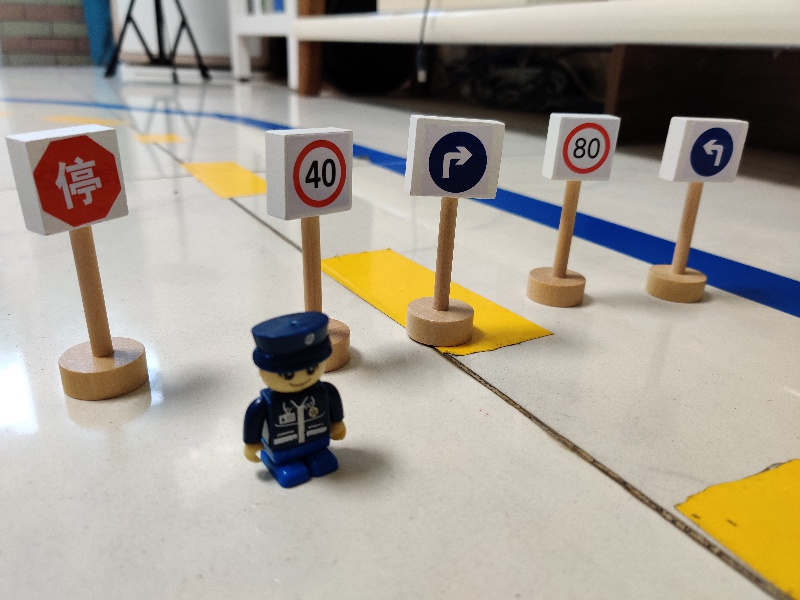limit_40: (258, 127, 358, 222)
limit_80: (539, 111, 621, 184)
person: (237, 308, 354, 493)
stop: (3, 122, 131, 235)
turn_left: (657, 115, 750, 185)
turn_right: (403, 112, 506, 202)
